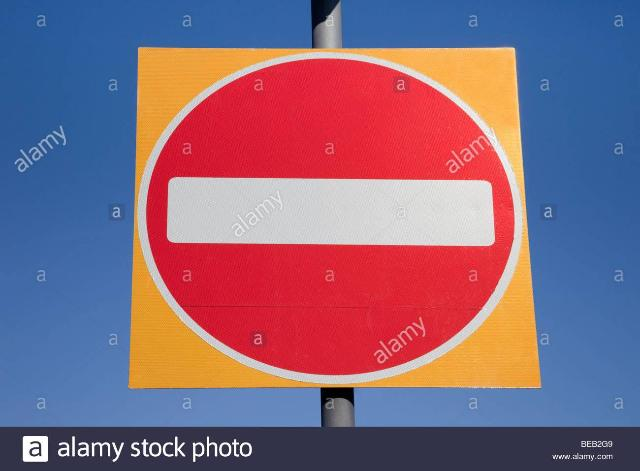B2: (132, 48, 534, 388)
